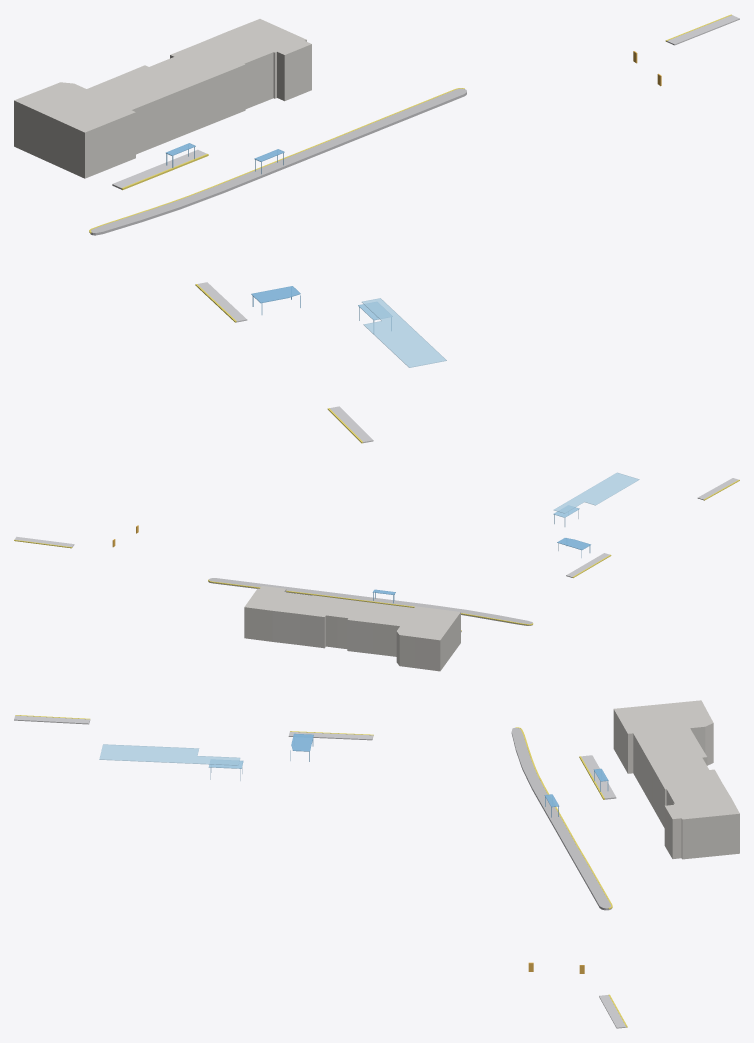
Rendered from 8507061-bern-brunnadernstrasse.glb.
3 views of the same model, one above another, from view 1: azimuth 30°, elevation 25°; view 2: azimuth 150°, elevation 25°; view 3: azimuth 270°, elevation 25° (orthographic). The views are drawn at different scales.
Visible parts, largest first — view 1: building_part@x, platform_surface@0, roof@0, platform_body@0, boarding_edge@0, shelter@0; view 2: building_part@x, platform_surface@0, roof@0, boarding_edge@0, platform_body@0, shelter@0; view 3: building_part@x, platform_surface@0, roof@0, platform_body@0, boarding_edge@0, shelter@0.
Part boxes in pixels (box(x1,y1,x2,y2)): building_part@x: box(14, 19, 311, 178); platform_surface@0: box(90, 88, 466, 235); roof@0: box(361, 298, 446, 367); platform_body@0: box(112, 15, 739, 443); boarding_edge@0: box(89, 14, 731, 443); shelter@0: box(166, 143, 300, 314); building_part@x: box(244, 586, 460, 671); platform_surface@0: box(209, 578, 532, 625); roof@0: box(553, 472, 639, 513); boarding_edge@0: box(14, 479, 739, 631); platform_body@0: box(14, 478, 738, 632); shelter@0: box(372, 538, 590, 603); building_part@x: box(613, 700, 739, 859); platform_surface@0: box(511, 727, 611, 910); roof@0: box(99, 744, 240, 765); platform_body@0: box(14, 715, 626, 1028); boarding_edge@0: box(15, 715, 627, 1027); shelter@0: box(290, 733, 608, 817).
Bounding box in the file's own units: 173 × 11.05 × 173.
